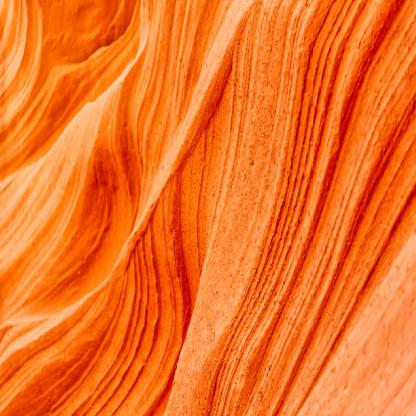Sedimentary_Sandstone: (0, 2, 415, 416)
